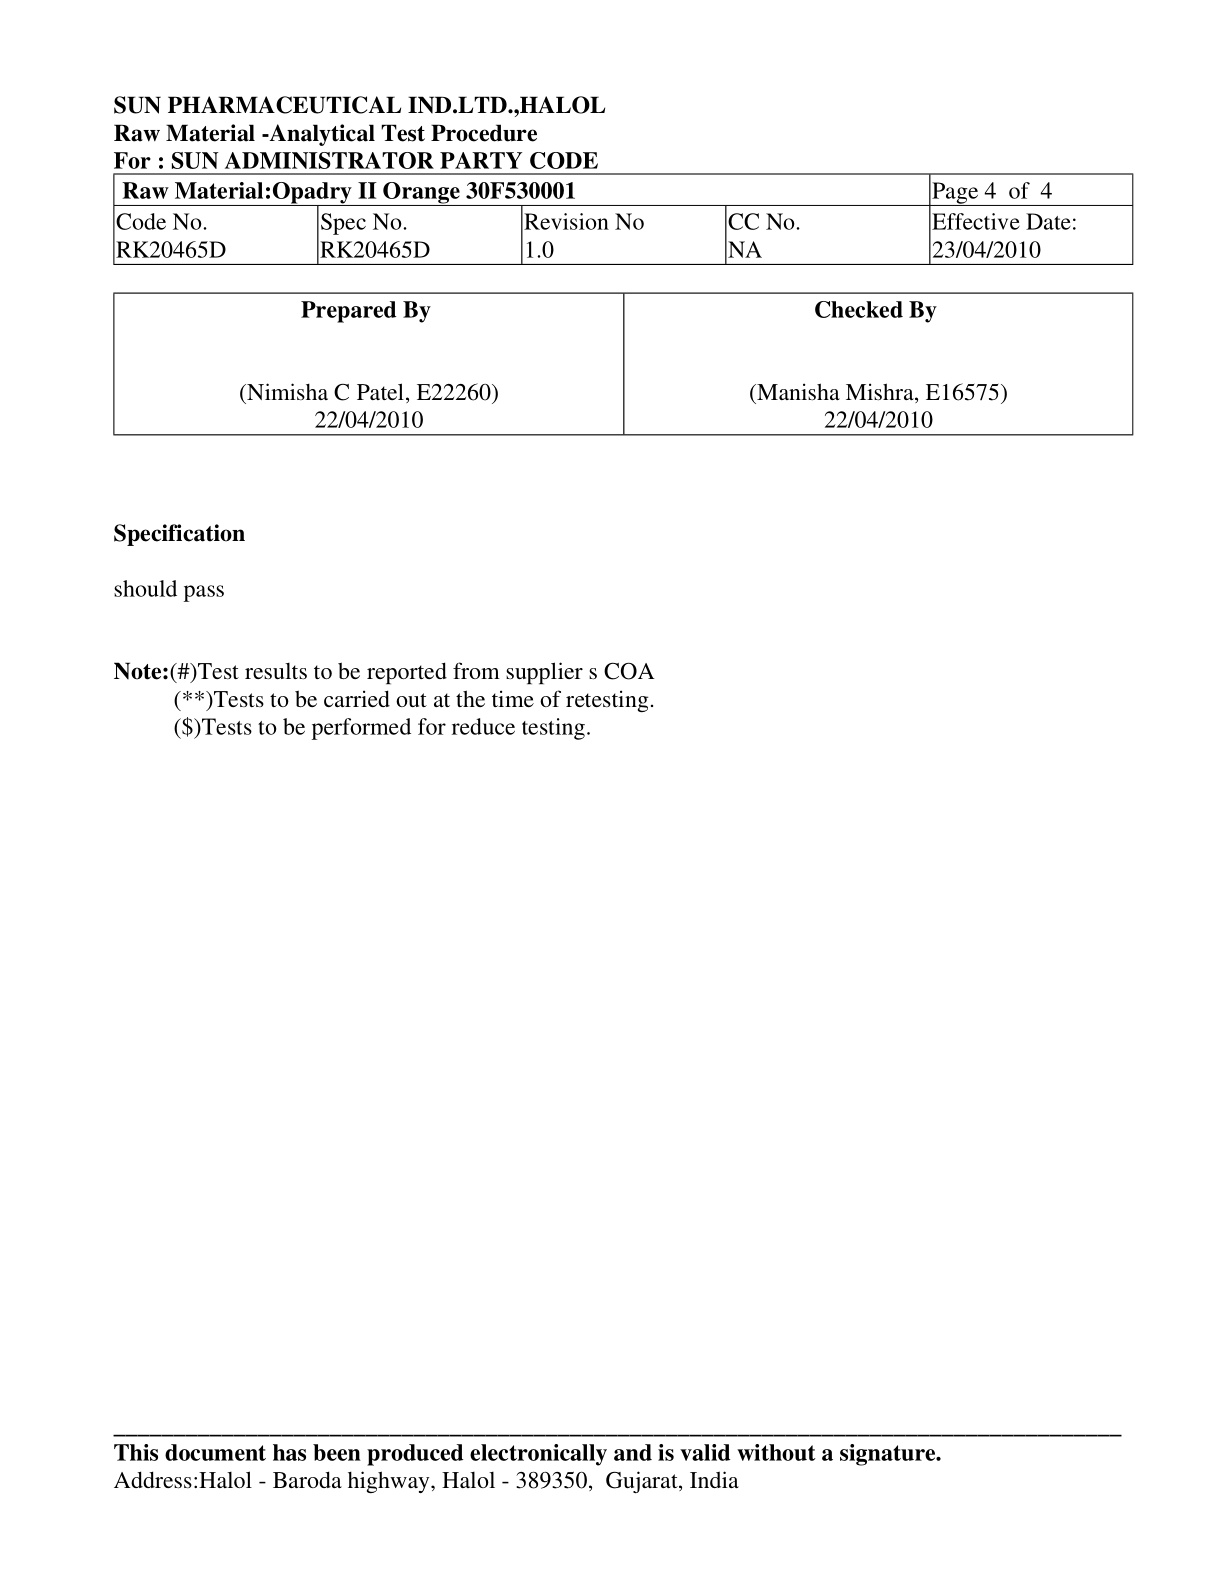merged_cells: (112, 172, 1134, 266)
partial_lined: (112, 291, 1134, 436)
